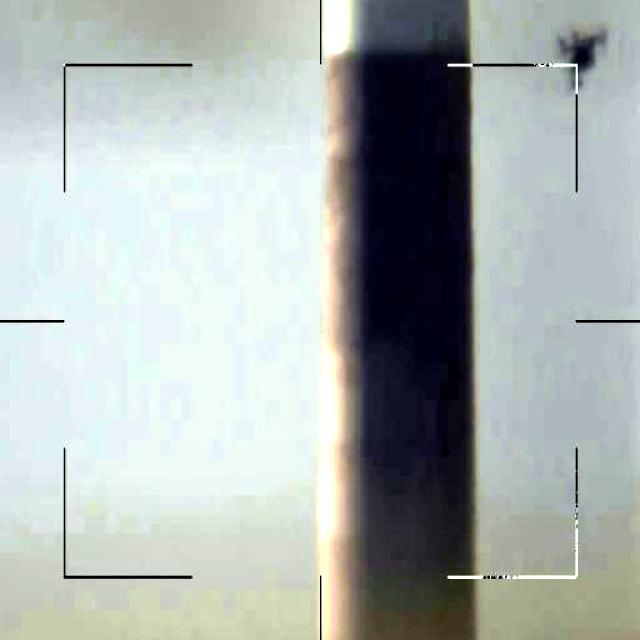bird: (555, 22, 609, 90)
